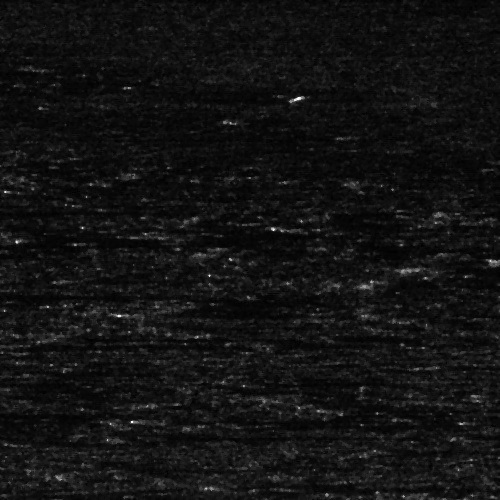object: (0, 229, 23, 256), (459, 250, 500, 261), (0, 342, 7, 347)
shadow: (0, 191, 136, 228), (0, 229, 171, 256), (0, 342, 152, 347)
